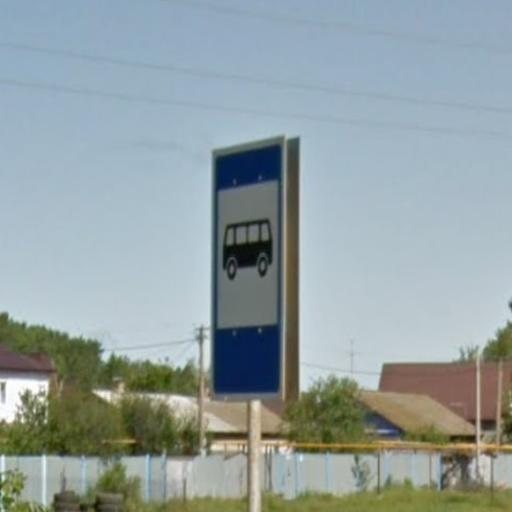traffic_sign: (211, 134, 287, 404)
